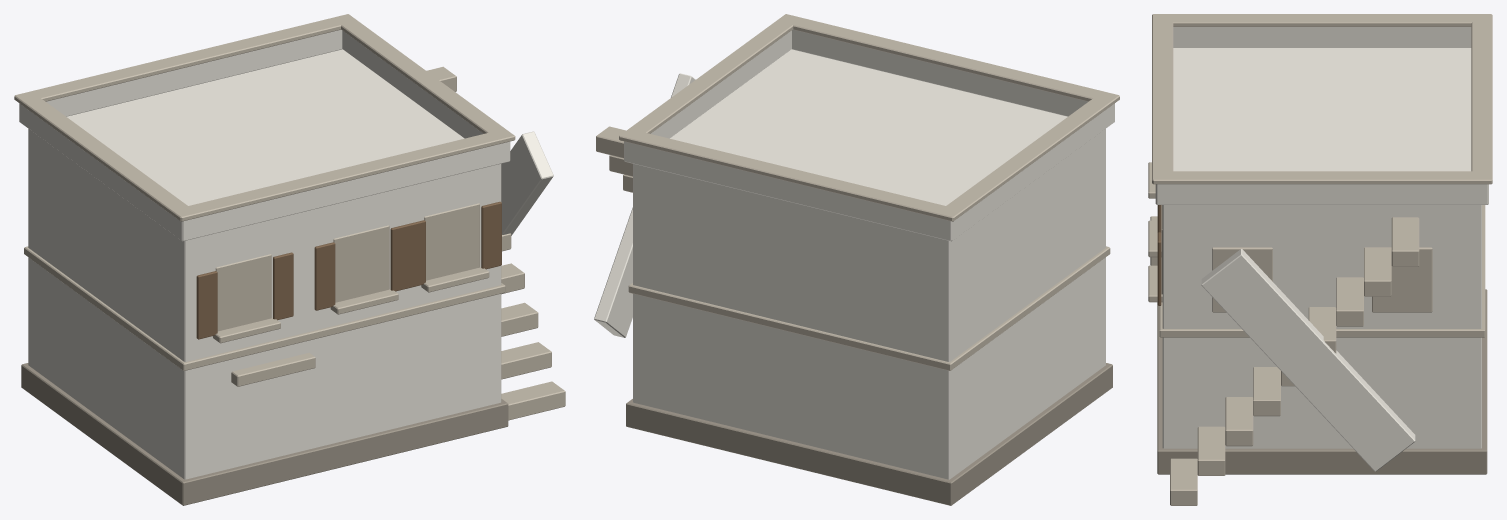
The model's file is TC_ENV_StoneHouse_V1.glb.
3 renders of one model, left to right at view 1: azimuth 30°, elevation 25°; view 2: azimuth 150°, elevation 25°; view 3: azimuth 270°, elevation 25°, orthographic.
Visible parts, largest first — view 1: TC_ENV_StoneHouse_V1; view 2: TC_ENV_StoneHouse_V1; view 3: TC_ENV_StoneHouse_V1.
Part boxes in pixels (x1,y1,x2,y2): TC_ENV_StoneHouse_V1: (14,14,565,505); TC_ENV_StoneHouse_V1: (594,14,1119,505); TC_ENV_StoneHouse_V1: (1148,14,1492,505).
Size of the model in its own units: 8.78 by 6.16 by 6.47.
